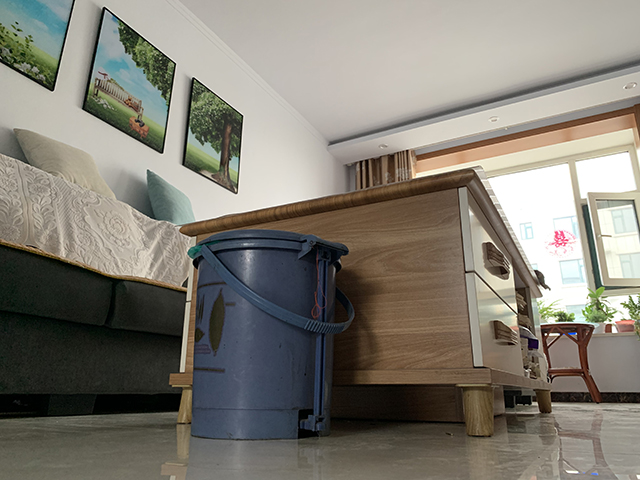sofa: (1, 119, 188, 420)
table: (167, 165, 554, 438), (539, 322, 604, 405)
trashcan: (187, 228, 358, 442)
